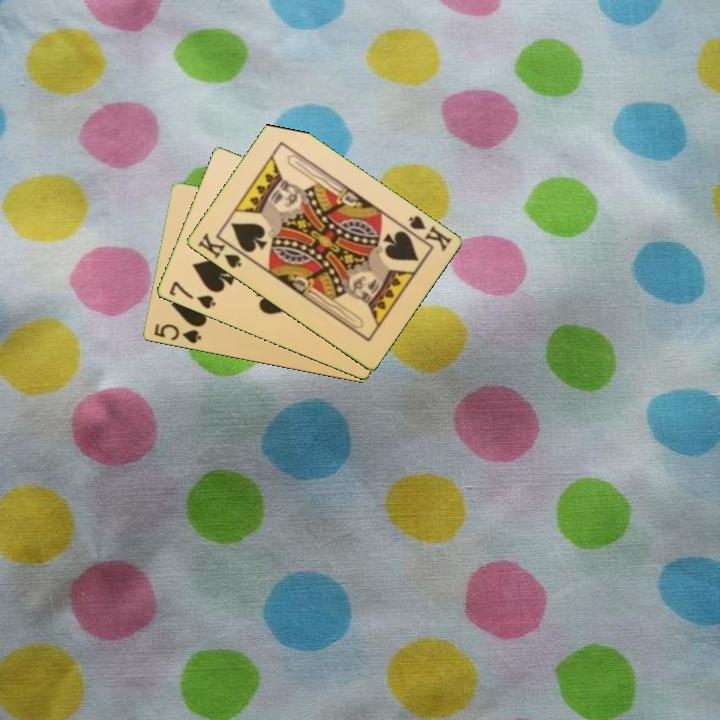5s: (150, 320, 204, 347)
7s: (165, 278, 218, 312)
Ks: (398, 212, 454, 255), (194, 229, 249, 271)
